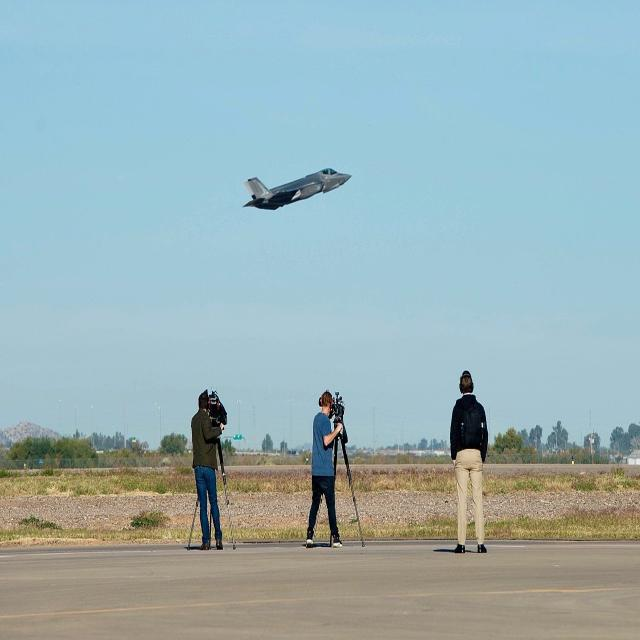MIL_Plane: (256, 168, 338, 210)
